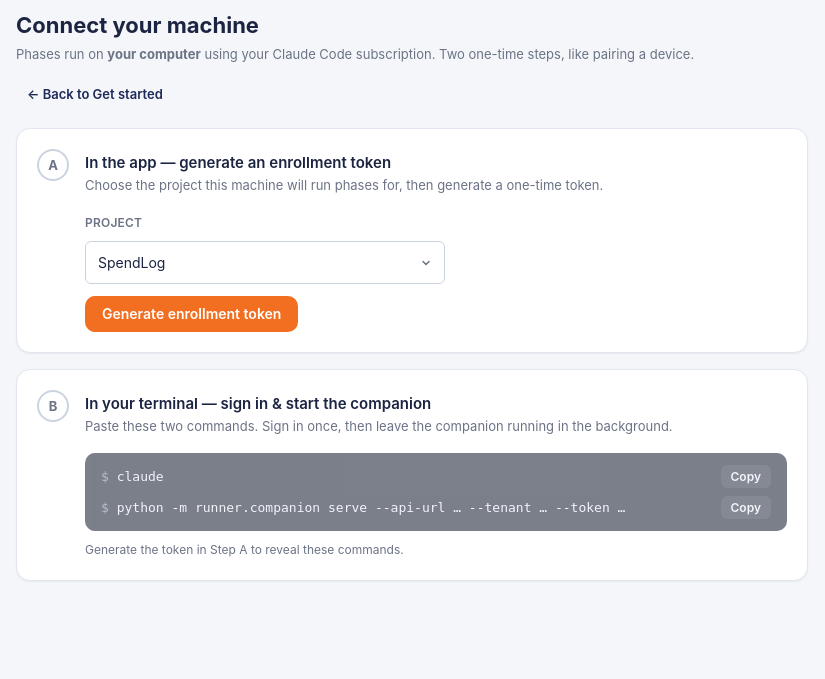
Test: S-06 Connect machine · a failure must not look like success › shows the server's reason and NO token when generating fails
Click the button "Generate enrollment token": {"x": 192, "y": 314} [85, 296, 298, 332]
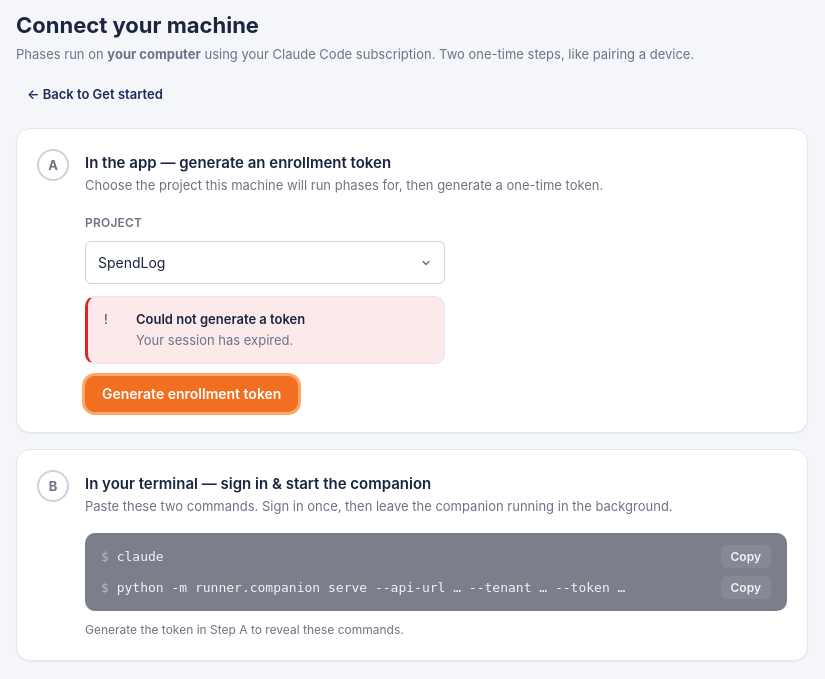
Expected: the button "Generate enrollment token" is shown, [85, 376, 298, 412]
Result: the text "Could not generate a token" is shown at [136, 311, 305, 327]
Result: the text "Your session has expired." is shown at [136, 332, 293, 348]
